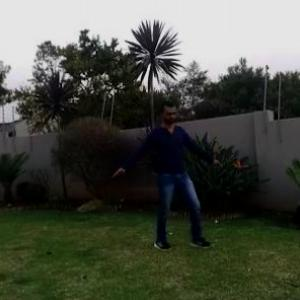land: (115, 108, 213, 231)
